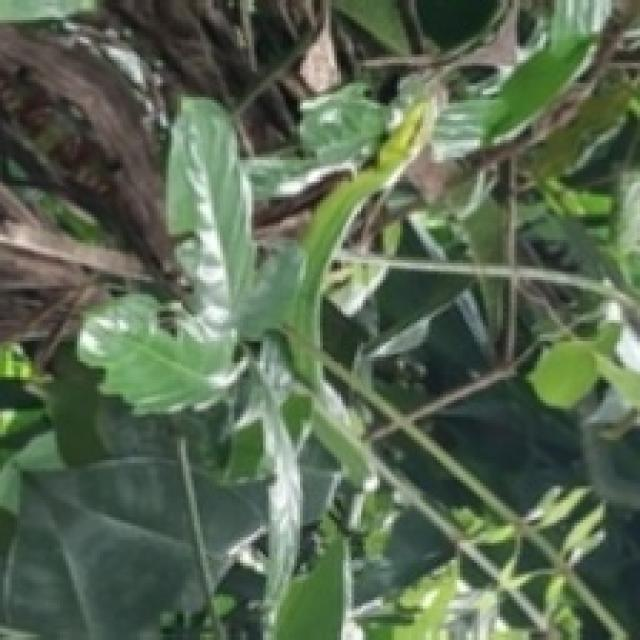red-tailed green ratsnake: (282, 100, 431, 391)
